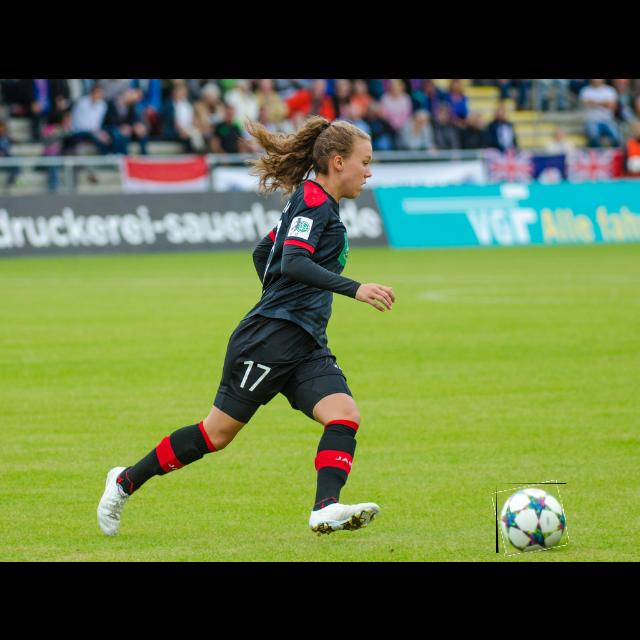Football: (496, 483, 566, 553)
